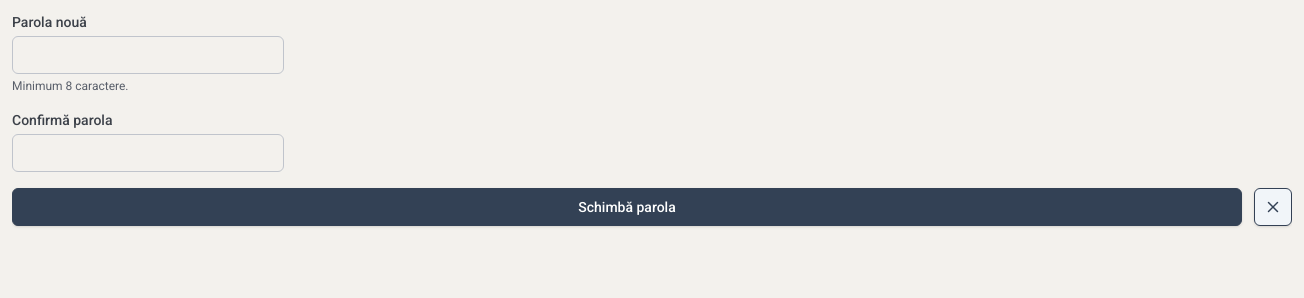
Scenario: FU-246: the change-password form speaks Romanian › shows a Romanian sentence, not the auth service's English one, when the change is refused
Type "parola-lunga-1" into the password field labelled "Parola nouă" at (148, 55), box [12,36,284,74]
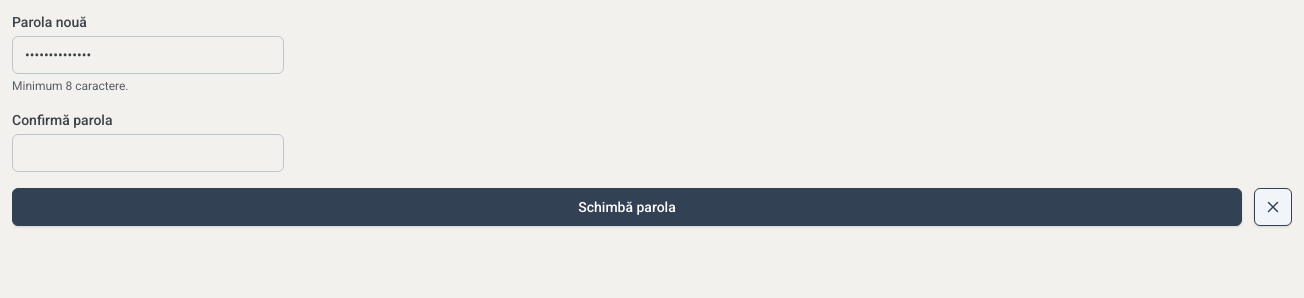
Type "parola-lunga-1" into the password field labelled "Confirmă parola" at (148, 153), box [12,134,284,172]
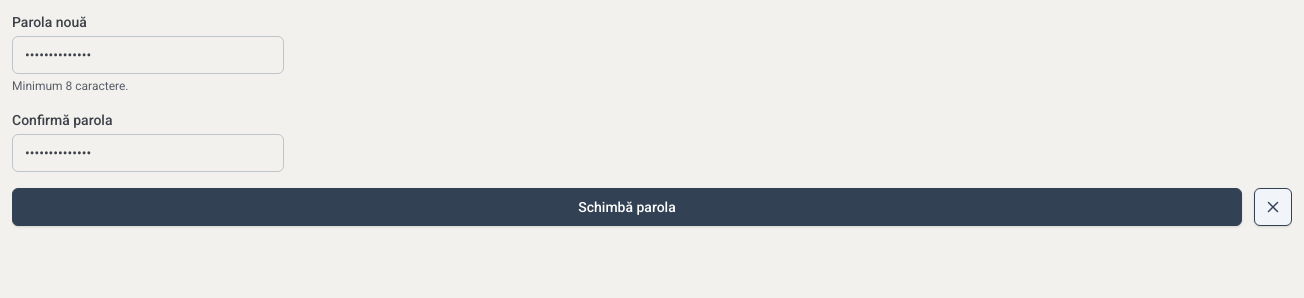
Submit the form "Schimbă parola"
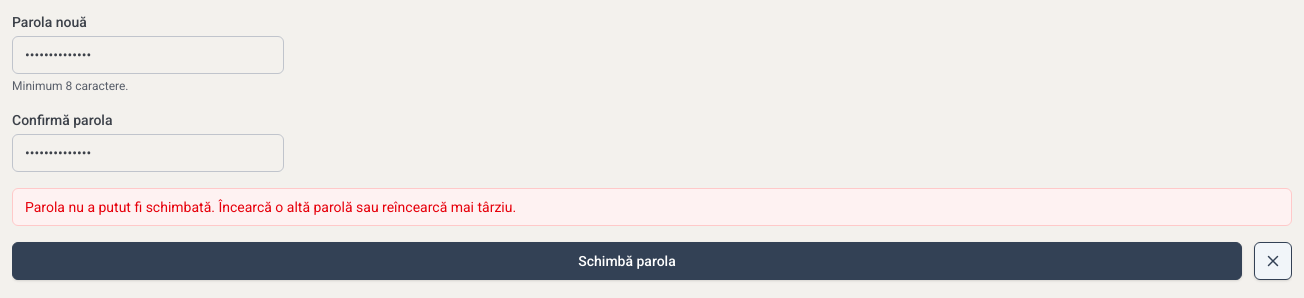
Now the text "Parola nu a putut fi schimbată. Încearcă o altă parolă sau reîncearcă mai târziu." is shown, box [25,199,516,215]
